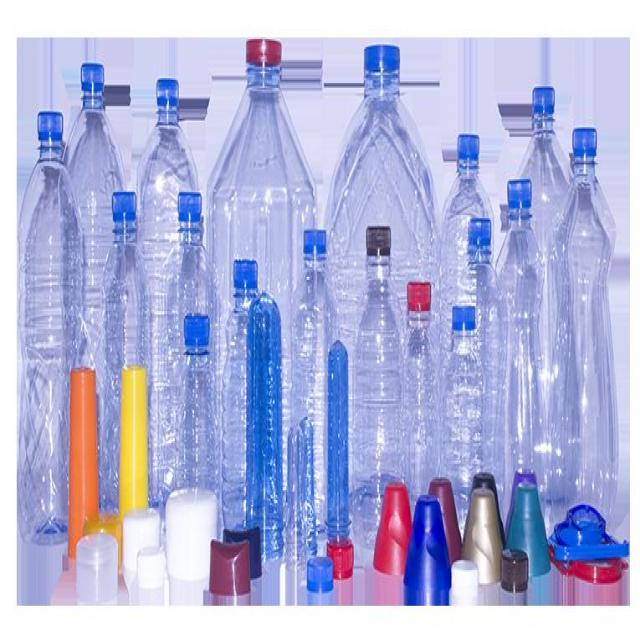plastic_bottle: (330, 61, 444, 525), (220, 54, 316, 533), (21, 126, 85, 538), (140, 96, 202, 513), (70, 73, 126, 529), (512, 118, 574, 486), (557, 167, 616, 539), (447, 141, 494, 501), (504, 196, 544, 517)
